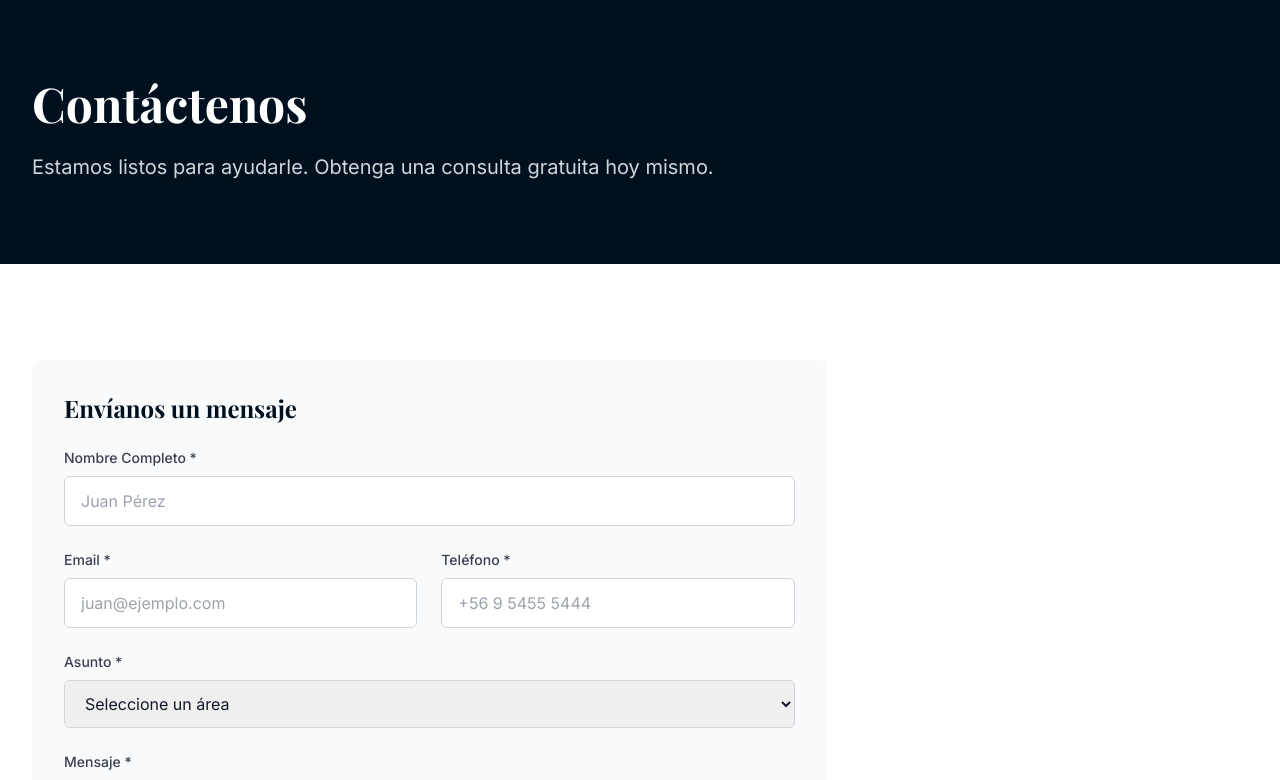
Test: Formulario de Contacto (Medium Priority) › muestra estado de carga durante el proceso de envío
This screenshot has width=1280, height=780.
Type "Carlos" into the field labelled "Nombre Completo *" at (429, 500), box [64,476,795,526]
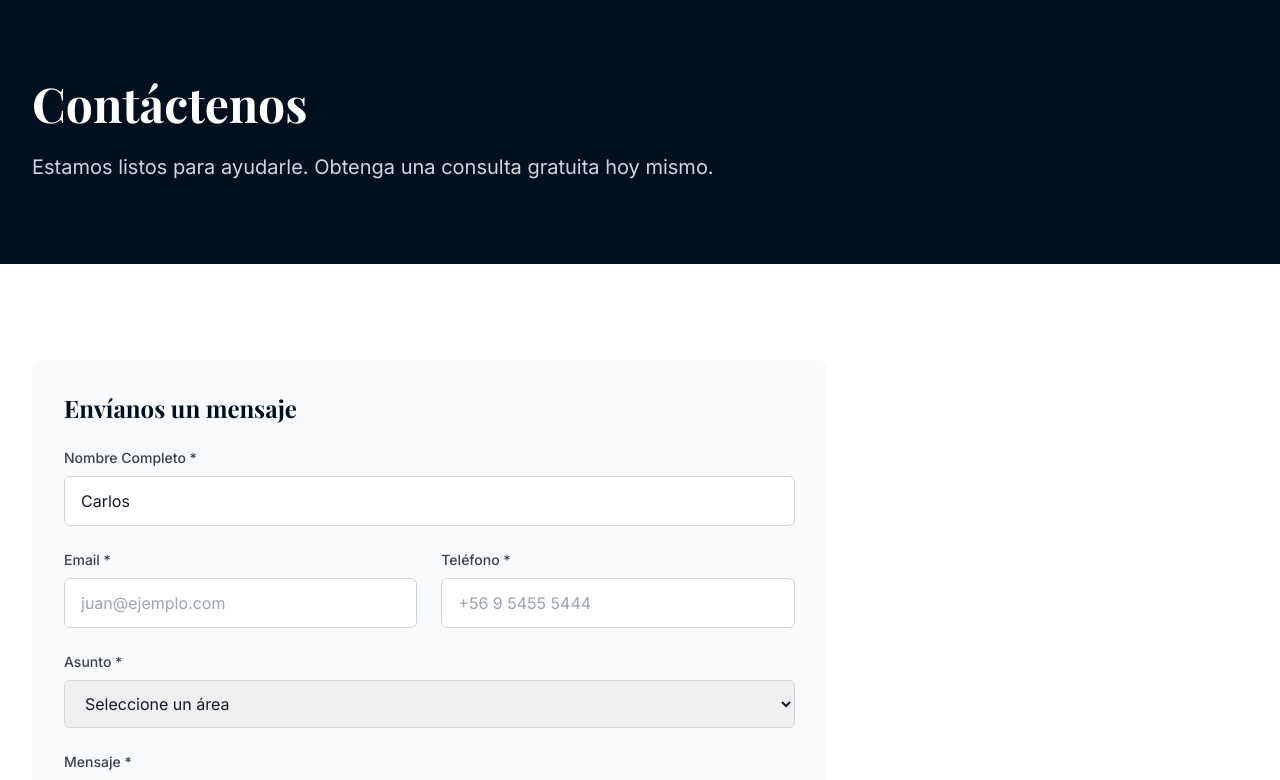
Type "carlos@test.com" into the field labelled "Email *" at (241, 602), box [64,578,417,628]
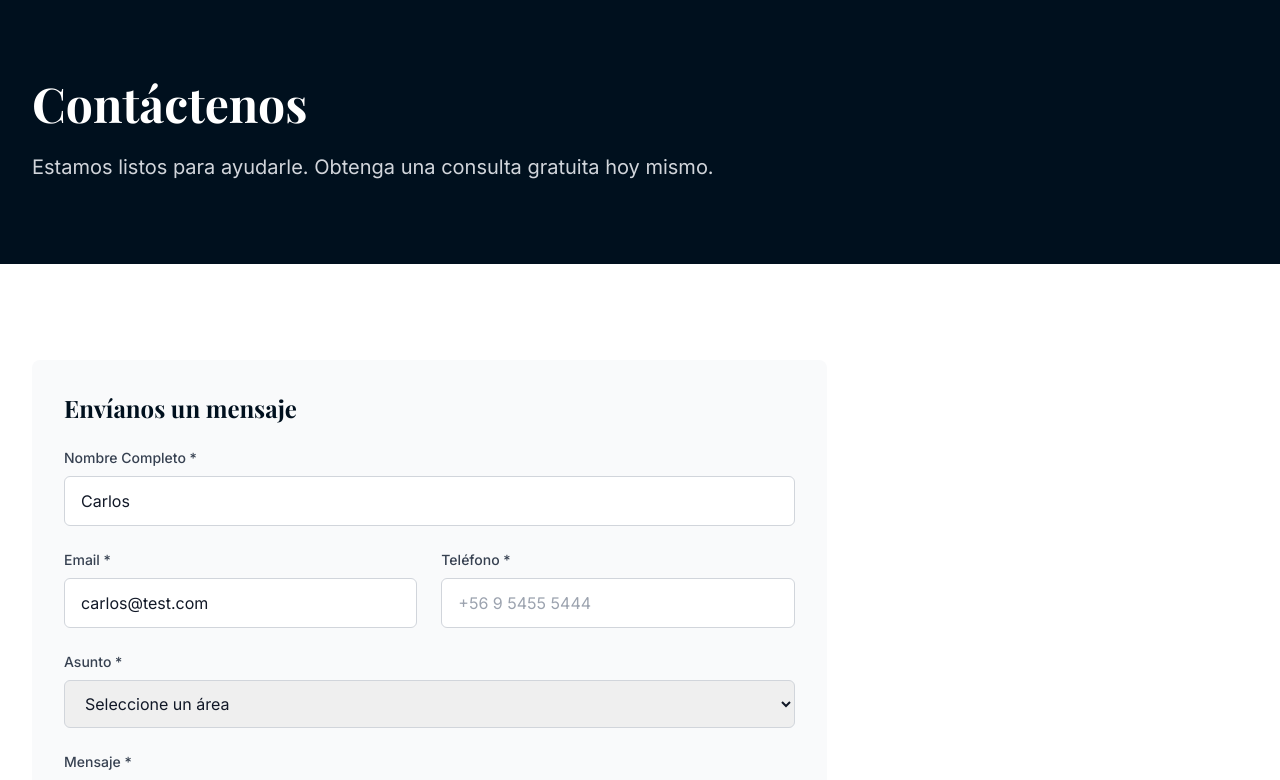
Type "123456789" into the field labelled "Teléfono *" at (618, 602), box [441,578,795,628]
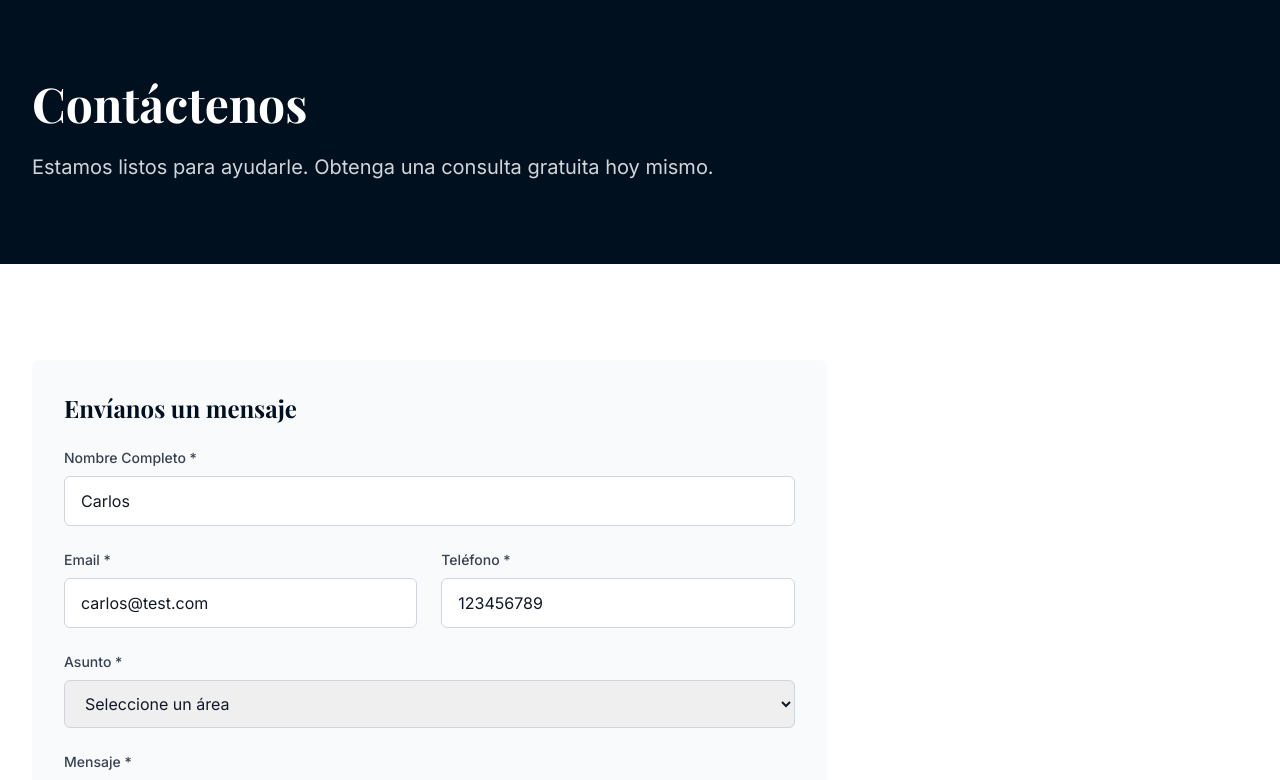
Select "Derecho Corporativo" in the dropdown labelled "Asunto *" at (429, 704), box [64,680,795,728]
(page scrolled)
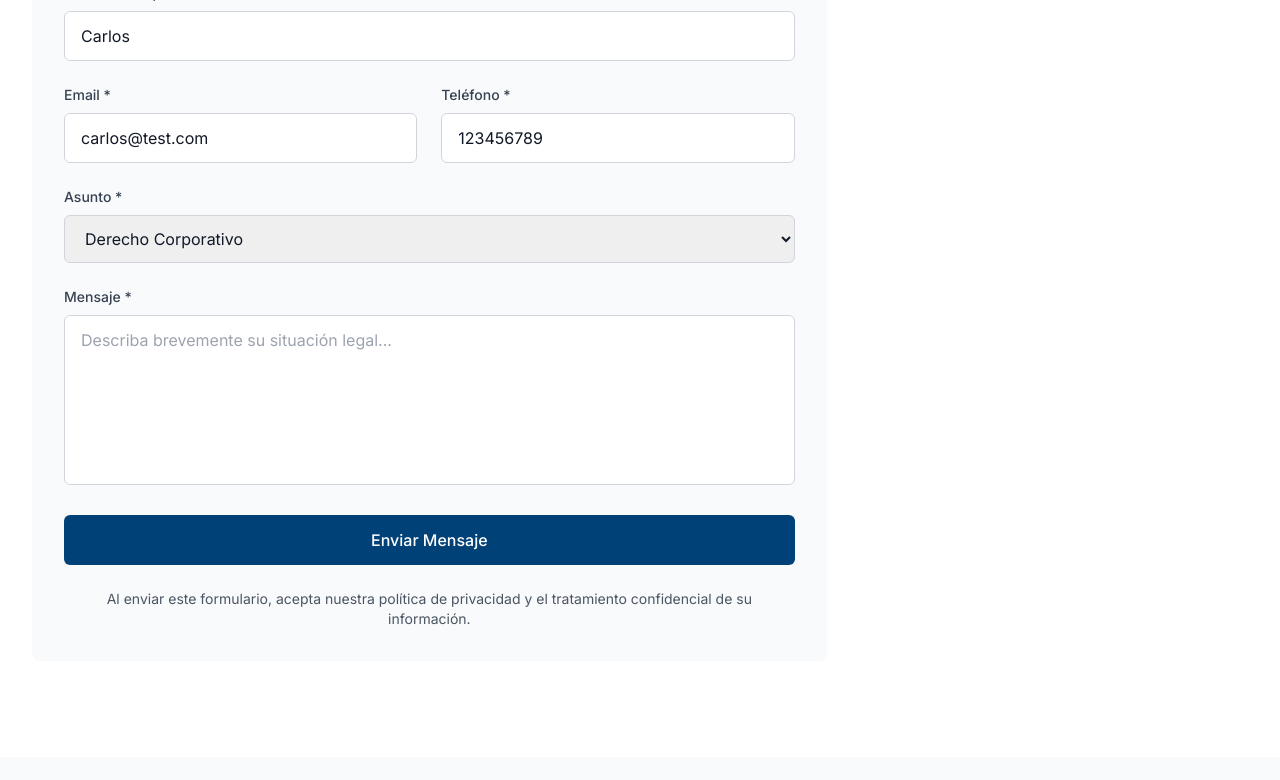
Type "Consulta legal sobre un caso corporativo" into the text box labelled "Mensaje *" at (429, 400), box [64,314,795,484]
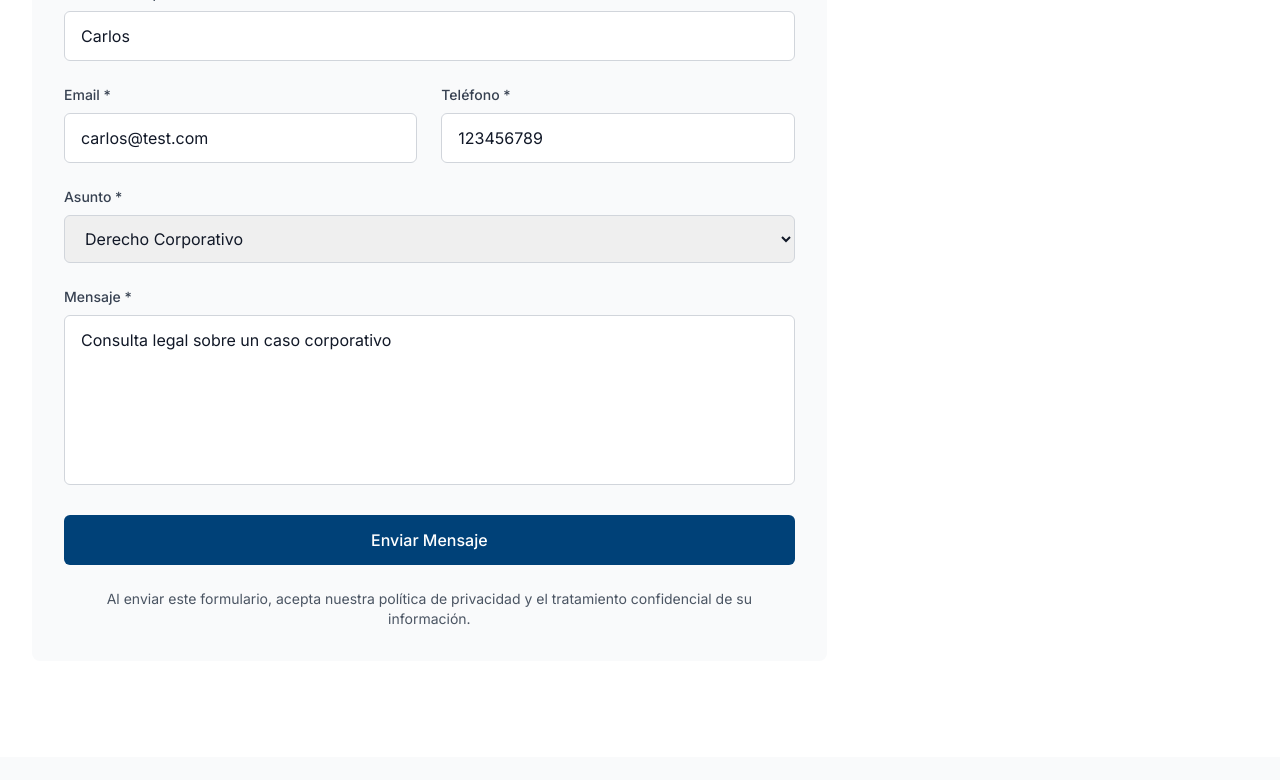
Click the button "Enviar Mensaje" at (429, 540), box [64,514,795,564]
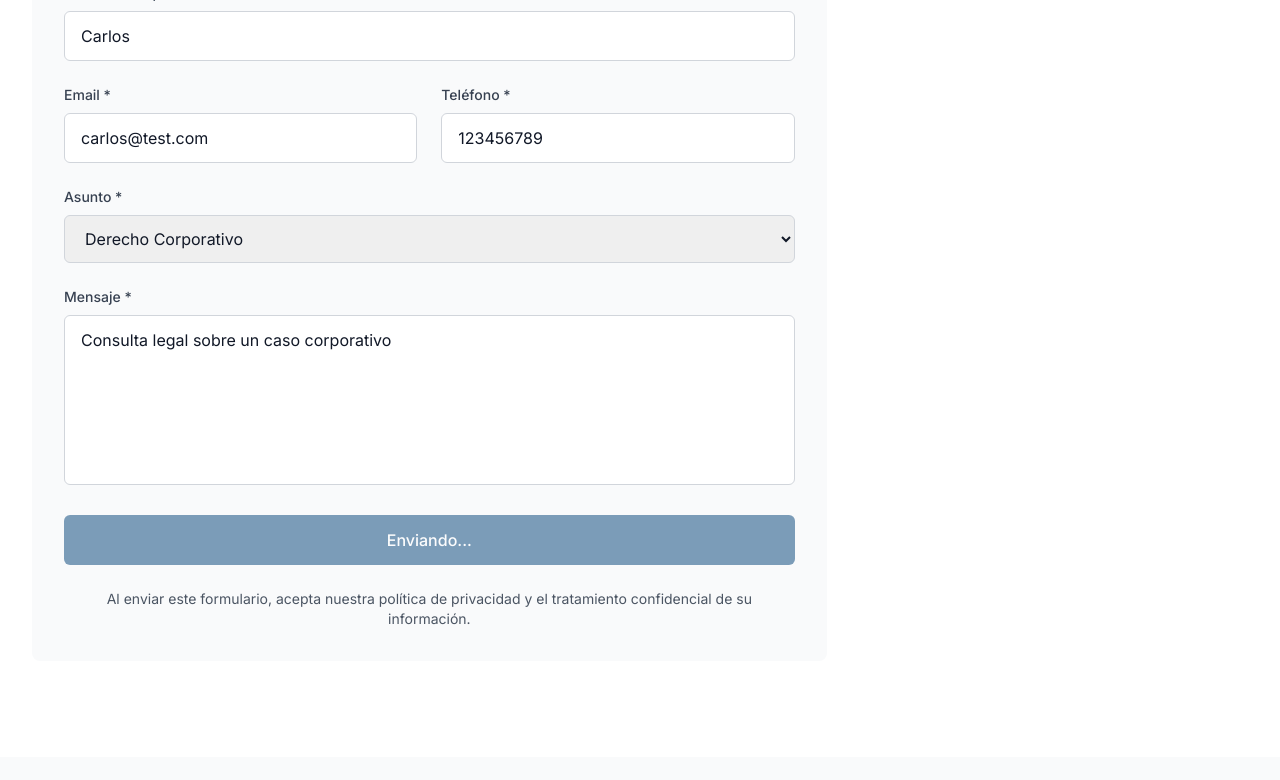
Expected: the button "Enviando..." is disabled, [64,514,795,564]
